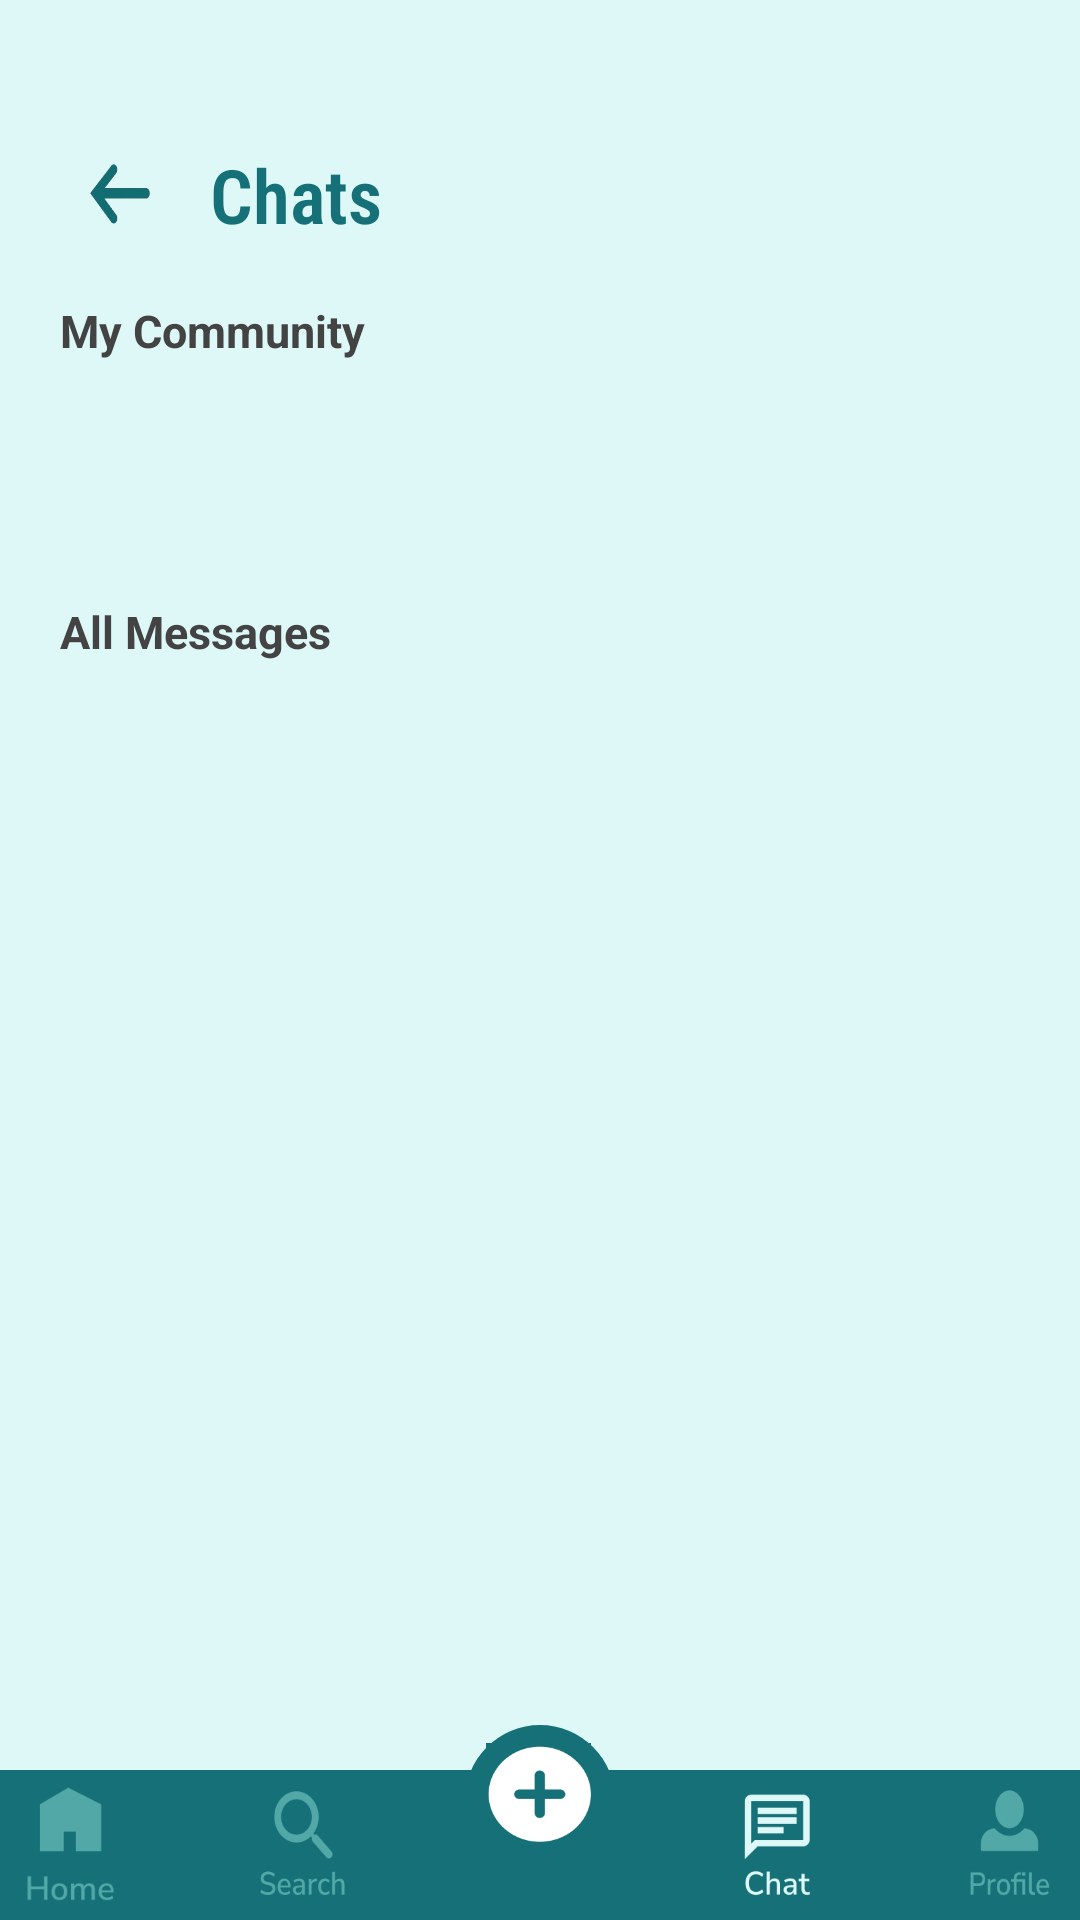

Icon click points for this 1080x1920 phone screenshot, format [x,y]:
addmentor: [539,1794]
back arrow: [120,194]
